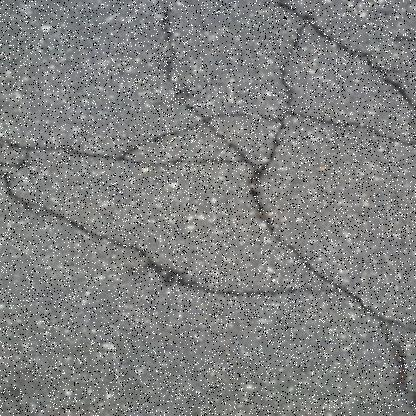Cracks: (0, 18, 339, 304), (257, 0, 415, 116), (325, 278, 415, 415)
